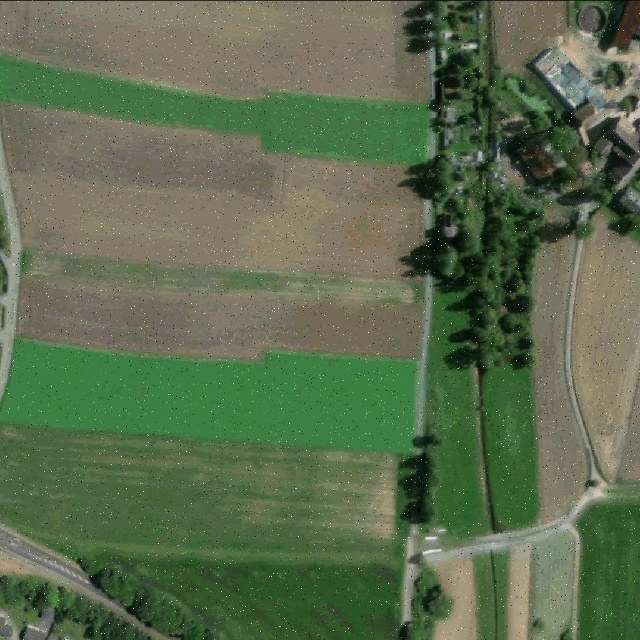vegetation: (428, 148, 545, 374), (77, 556, 217, 638), (2, 572, 152, 640), (421, 1, 484, 99), (410, 563, 456, 639), (418, 434, 440, 523)
